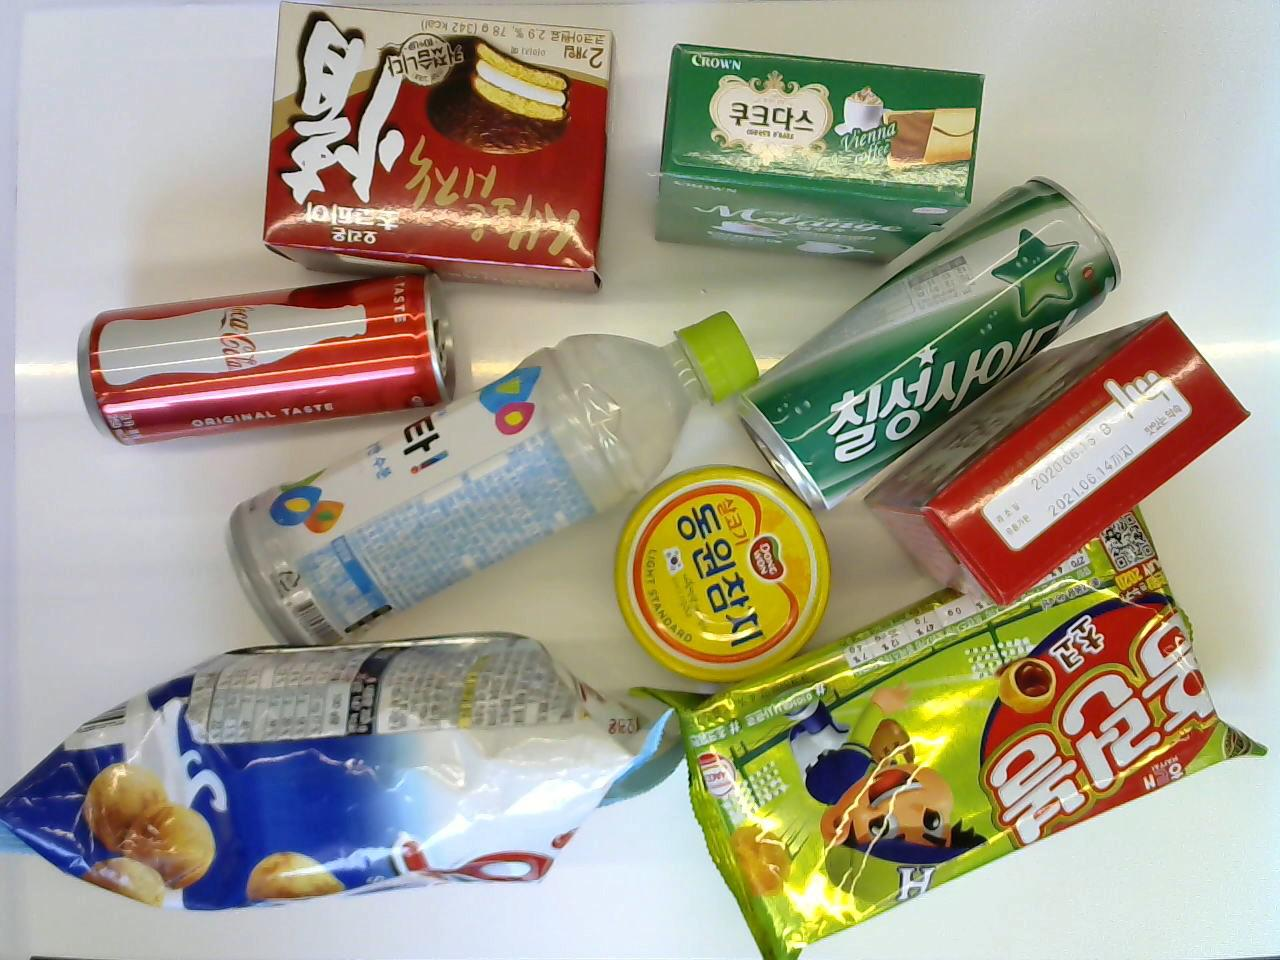chocopie: (263, 0, 618, 294)
cidar: (728, 171, 1121, 514)
coke: (73, 269, 458, 448)
couque_coffee: (652, 46, 988, 262)
couque_white: (865, 312, 1254, 598)
homerunball: (625, 497, 1269, 959)
squid_peanut: (0, 633, 690, 914)
toreta: (224, 305, 761, 651)
tuna: (613, 470, 833, 685)
